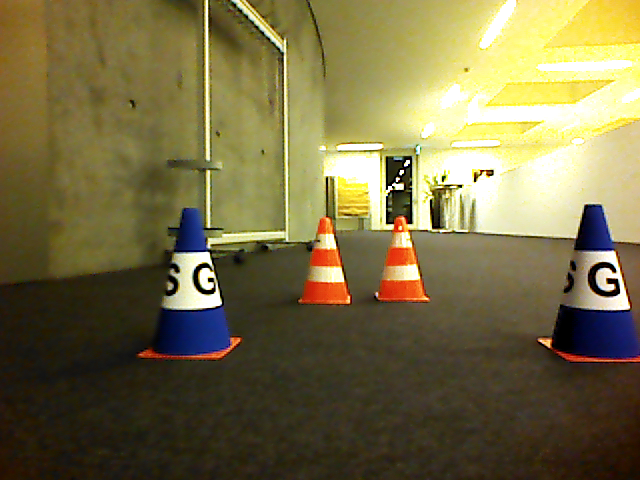bluecone: (532, 203, 640, 365), (136, 206, 244, 362)
orangeconesmall: (296, 215, 354, 306), (374, 215, 433, 304)
